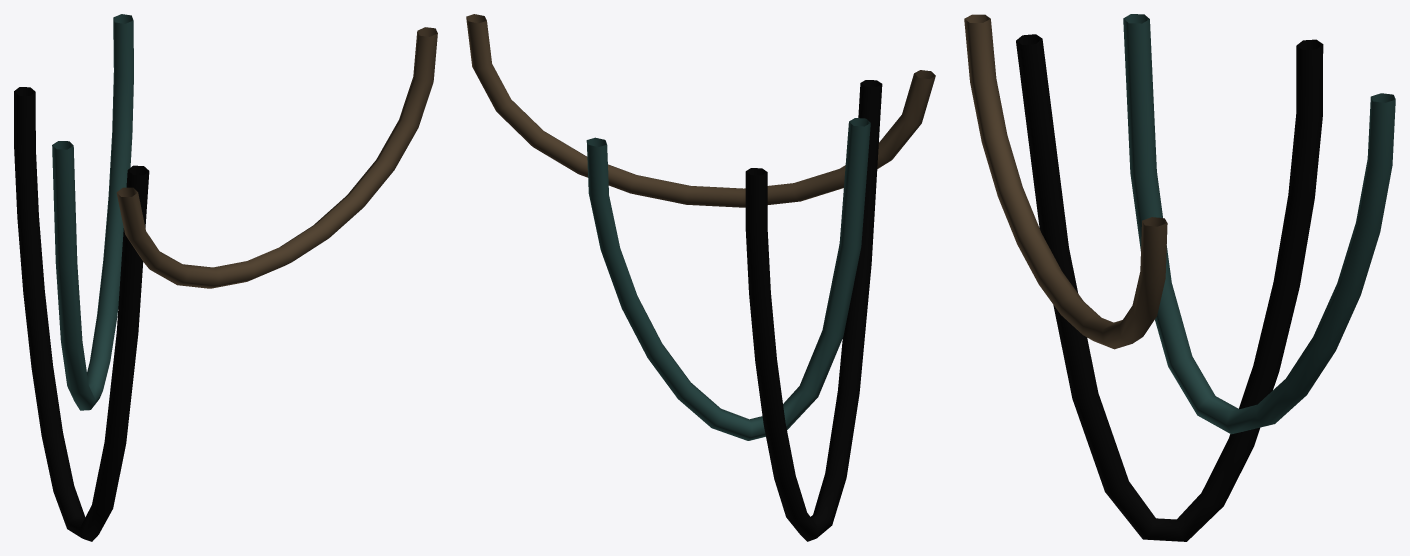
The model's file is wire_4.glb.
3 renders of one model, left to right at view 1: azimuth 30°, elevation 25°; view 2: azimuth 150°, elevation 25°; view 3: azimuth 270°, elevation 25°, orthographic. The views are drawn at different scales.
Parts seen in each view (by area): view 1: wire_4_mesh; view 2: wire_4_mesh; view 3: wire_4_mesh.
Part boxes in pixels (x1,y1,x2,y2): wire_4_mesh: [14, 14, 437, 541]; wire_4_mesh: [466, 14, 935, 541]; wire_4_mesh: [964, 14, 1395, 541].
Bounding box in the file's own units: 2.07 × 2.16 × 1.61.
